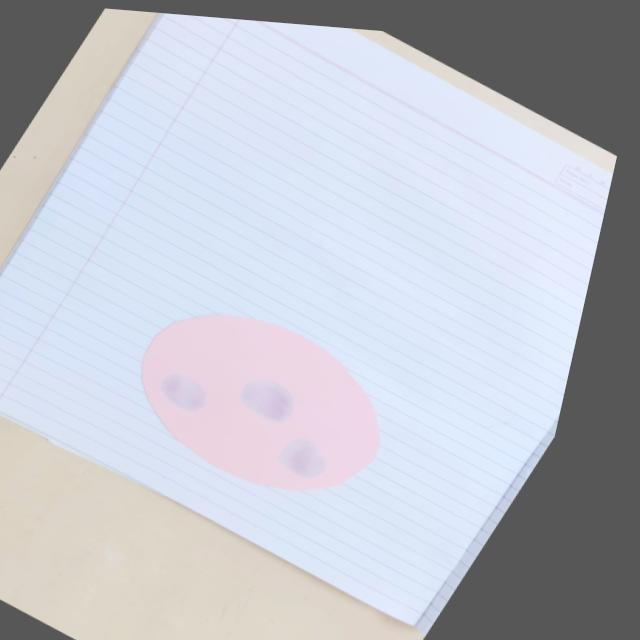BlueColor: (240, 379, 293, 421), (278, 437, 325, 478), (161, 374, 205, 410)
